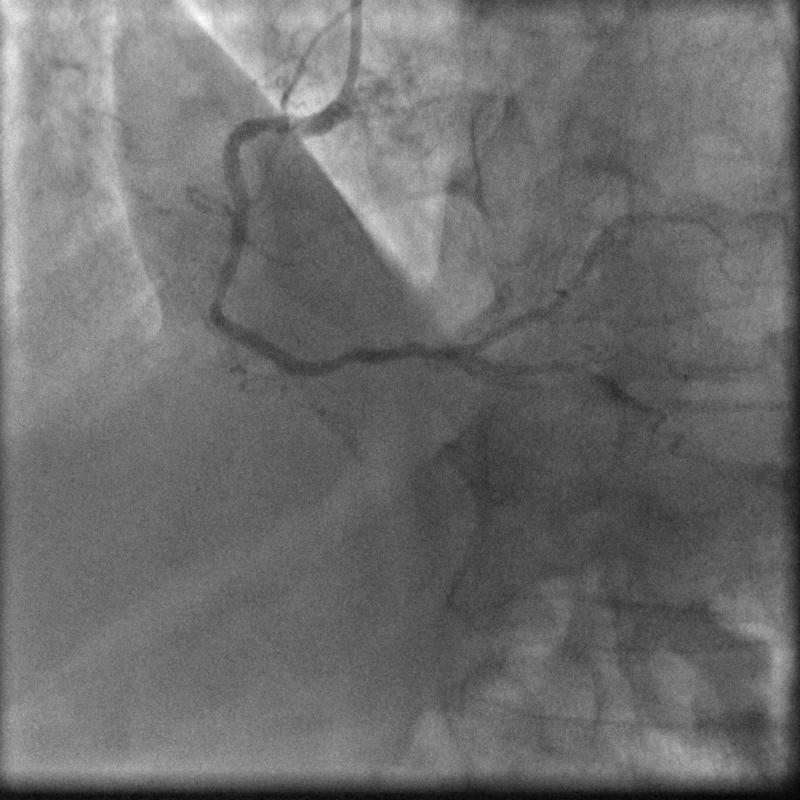Stenosis: (209, 290, 228, 310)
